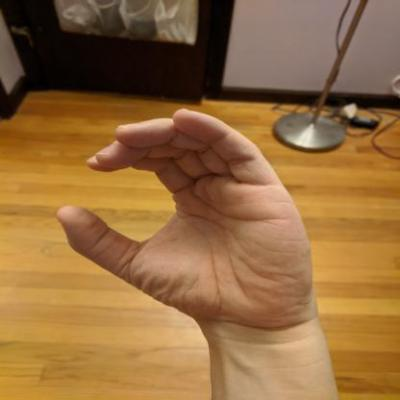hand: (53, 104, 325, 328)
